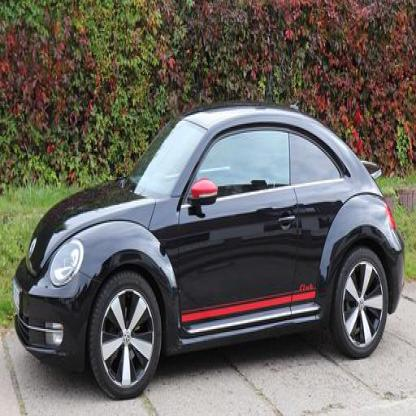Tire: (88, 270, 162, 400), (332, 243, 390, 361)
